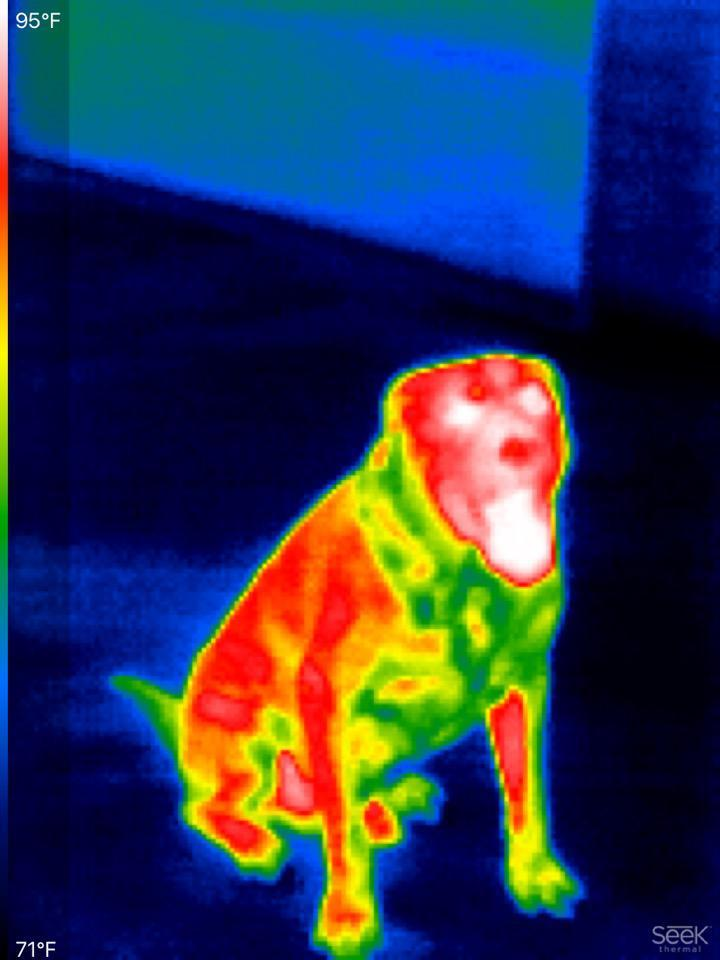dog: (94, 345, 594, 951)
